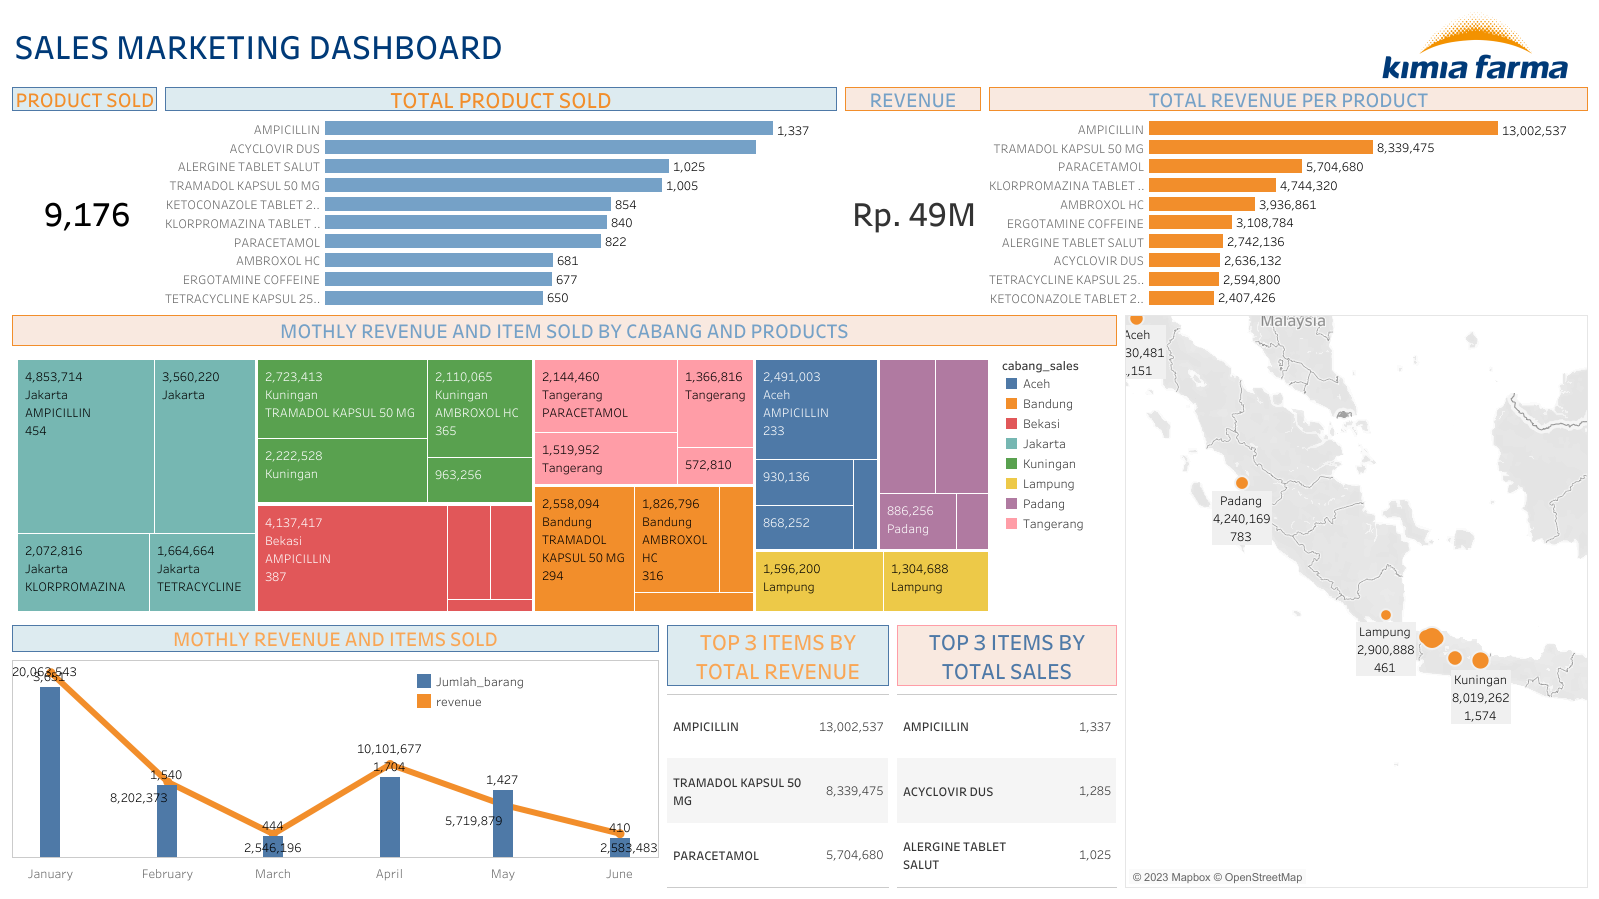

Layout of this report page (visuals, bound fields, positions):
{"tool":"tableau","page":{"name":"Dashboard 2","canvas":[1600,900],"ordinal":0},"visuals":[{"type":"text","box":[8,8,1369.9,75]},{"type":"image","param":"Image/Kimia_Farma_logo.svg.png","box":[1377.9,8,214.1,75]},{"type":"text","box":[8,83,153,32]},{"type":"text","box":[161,83,680,32]},{"type":"text","box":[841,83,144,32]},{"type":"text","box":[985,83,607,32]},{"type":"worksheet","title":"ITEM SOLD SC","mark":"Automatic","box":[8,115,153,196]},{"type":"worksheet","title":"Product per total barang)","mark":"Automatic","rows":["nama_barang"],"cols":["Jumlah_barang"],"box":[161,115,680,196]},{"type":"worksheet","title":"REVENUE SC","mark":"Automatic","box":[841,115,144,196]},{"type":"worksheet","title":"Product per Revenue","mark":"Automatic","rows":["nama_barang"],"cols":["revenue"],"box":[985,115,607,196]},{"type":"text","box":[8,311,1113,39]},{"type":"worksheet","title":"Map","mark":"Circle","box":[1121,311,471,581]},{"type":"worksheet","title":"Product sold per cabang","mark":"Automatic","box":[8,350,989,271]},{"type":"legend","title":"Product sold per cabang","param":"[federated.1pwzt7m1s8ee4717g6eub0porbwv].[none:cabang_sales:nk]","box":[997,350,124,271]},{"type":"text","box":[8,621,655,35]},{"type":"text","box":[663,621,230,69]},{"type":"text","box":[893,621,228,69]},{"type":"worksheet","title":"Line chart Revenue","mark":"Automatic","rows":["revenue","Jumlah_barang"],"cols":["tanggal_transaksi"],"box":[8,656,655,236]},{"type":"legend","title":"Line chart Revenue","param":"[federated.1pwzt7m1s8ee4717g6eub0porbwv].[:Measure Names]","box":[414,671,140,58]},{"type":"worksheet","title":"Sheet 11 (2)","mark":"Automatic","rows":["nama_barang"],"box":[663,690,230,202]},{"type":"worksheet","title":"Sheet 11","mark":"Automatic","rows":["nama_barang"],"box":[893,690,228,202]}]}

Visuals, with their boxes in screenshot pixels (x1, y1, x2, y2), scaled from the page's 1600x900 canvas onto the 1599x899 screenshot:
text: 8, 8, 1377, 83
image: 1377, 8, 1591, 83
text: 8, 83, 161, 115
text: 161, 83, 840, 115
text: 840, 83, 984, 115
text: 984, 83, 1591, 115
"ITEM SOLD SC" worksheet: 8, 115, 161, 311
"Product per total barang)" worksheet: 161, 115, 840, 311
"REVENUE SC" worksheet: 840, 115, 984, 311
"Product per Revenue" worksheet: 984, 115, 1591, 311
text: 8, 311, 1120, 350
"Map" worksheet (Circle marks): 1120, 311, 1591, 891
"Product sold per cabang" worksheet: 8, 350, 996, 620
"Product sold per cabang" legend: 996, 350, 1120, 620
text: 8, 620, 663, 655
text: 663, 620, 892, 689
text: 892, 620, 1120, 689
"Line chart Revenue" worksheet: 8, 655, 663, 891
"Line chart Revenue" legend: 414, 670, 554, 728
"Sheet 11 (2)" worksheet: 663, 689, 892, 891
"Sheet 11" worksheet: 892, 689, 1120, 891
